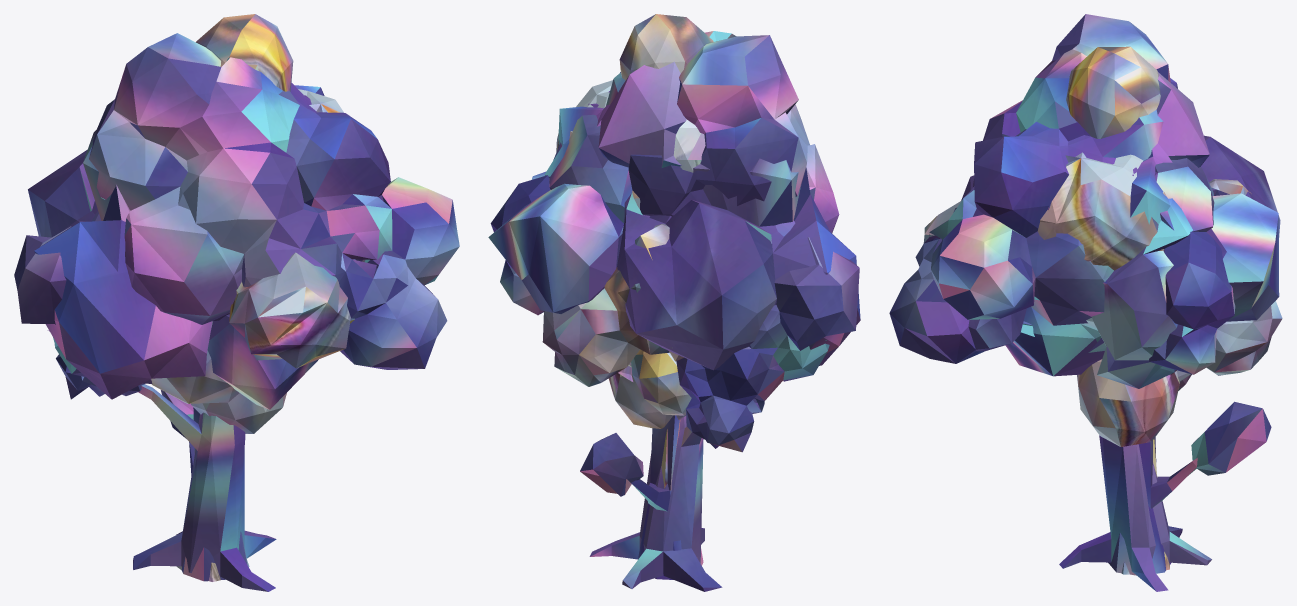
File: trees.glb
3 renders of one model, left to right at view 1: azimuth 30°, elevation 25°; view 2: azimuth 150°, elevation 25°; view 3: azimuth 270°, elevation 25°, orthographic. The views are drawn at different scales.
Parts seen in each view (by area): view 1: tree3, tree2, tree1, tree4; view 2: tree2, tree3, tree4, tree1; view 3: tree3, tree2, tree1, tree4.
Part boxes in pixels (x1,y1,x2,y2): tree3: (14,33,459,591); tree2: (28,85,324,581); tree1: (176,89,355,581); tree4: (151,14,293,433); tree2: (488,61,860,579); tree3: (490,31,859,591); tree4: (608,14,713,428); tree1: (542,80,683,488); tree3: (889,14,1235,591); tree2: (1005,72,1280,575); tree1: (923,152,1282,574); tree4: (1066,46,1191,446).
Size of the model in its own units: 8.59 by 13.09 by 8.94.
4 materials, 4 textured.
